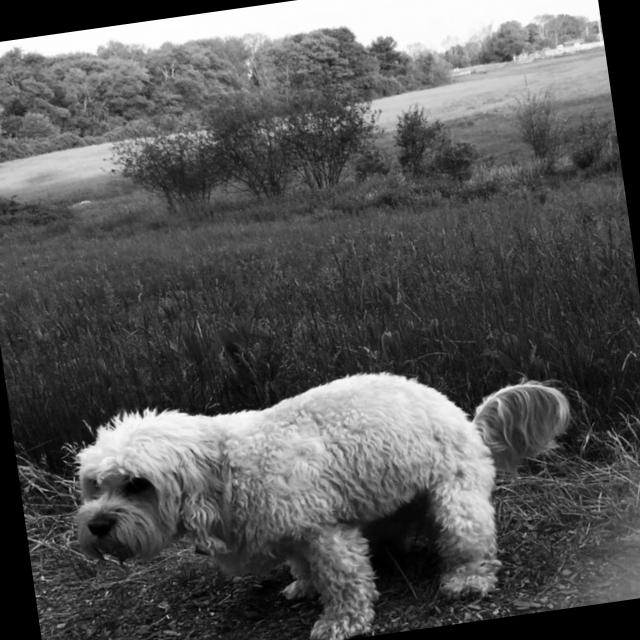squatting: (38, 335, 611, 640)
